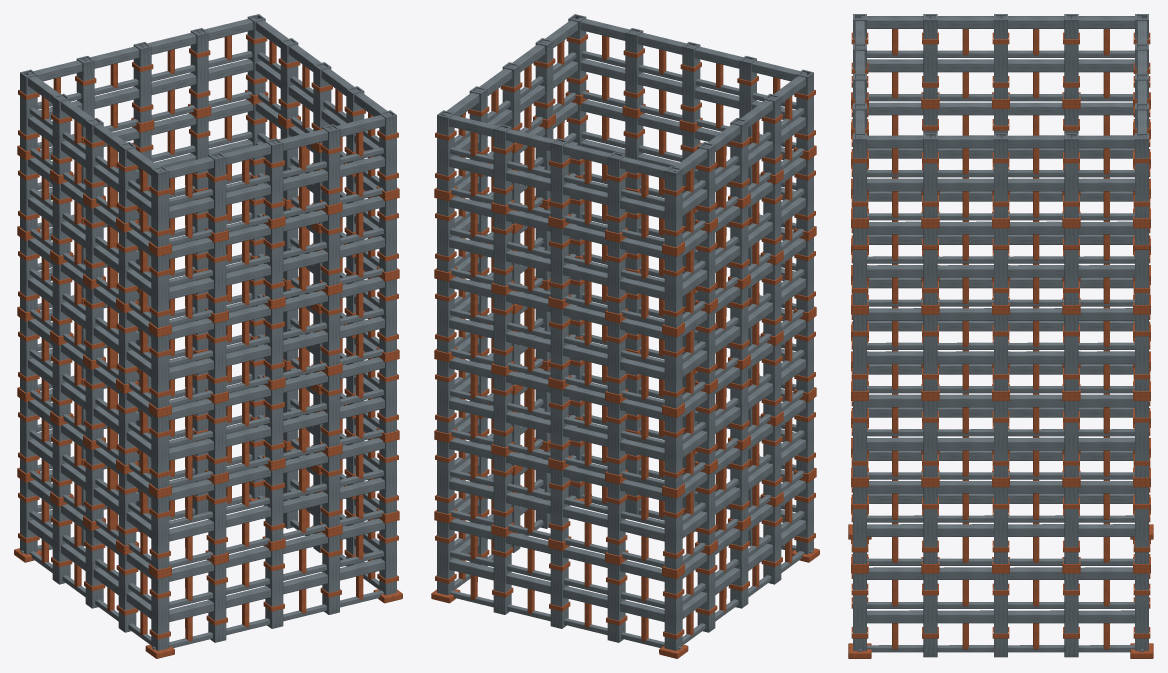
3 renders of one model, left to right at view 1: azimuth 30°, elevation 25°; view 2: azimuth 150°, elevation 25°; view 3: azimuth 270°, elevation 25°, orthographic. The views are drawn at different scales.
Visible parts, largest first — view 1: Tier 5 side 0 post 0, Tier 0 side 0 post 0, Tier 1 side 0 post 0, Tier 4 side 0 post 0, Tier 2 side 0 post 0, Tier 3 side 0 post 0, Tier 5 side 0 post 1, Tier 5 side 0 post 2, Tier 5 side 2 post 1, Tier 0 side 0 post 1, Tier 0 side 0 post 2, Tier 5 side 2 post 2 (+88 smaller); view 2: Tier 5 side 3 post 0, Tier 0 side 3 post 0, Tier 1 side 3 post 0, Tier 4 side 3 post 0, Tier 2 side 3 post 0, Tier 3 side 3 post 0, Tier 5 side 2 post 1, Tier 5 side 2 post 2, Tier 5 side 2 post 3, Tier 0 side 2 post 2, Tier 0 side 2 post 1, Tier 0 side 2 post 3 (+88 smaller); view 3: Tier 0 side 1 post 1, Tier 0 side 1 post 3, Tier 5 side 1 post 3, Tier 5 side 1 post 1, Tier 5 side 3 post 1, Tier 5 side 3 post 3, Tier 0 side 1 post 2, Tier 5 side 1 post 2, Tier 5 side 2 post 0, Tier 5 side 1 post 0, Tier 5 side 3 post 2, Tier 3 side 1 post 1 (+117 smaller).
Part boxes in pixels (x1=…): Tier 5 side 0 post 0: x1=151, y1=166, x2=169, y2=247; Tier 0 side 0 post 0: x1=151, y1=575, x2=169, y2=650; Tier 1 side 0 post 0: x1=151, y1=494, x2=169, y2=569; Tier 4 side 0 post 0: x1=151, y1=253, x2=169, y2=327; Tier 2 side 0 post 0: x1=151, y1=414, x2=169, y2=488; Tier 3 side 0 post 0: x1=151, y1=333, x2=169, y2=408; Tier 5 side 0 post 1: x1=208, y1=152, x2=226, y2=233; Tier 5 side 0 post 2: x1=265, y1=138, x2=283, y2=219; Tier 5 side 2 post 1: x1=190, y1=28, x2=208, y2=109; Tier 0 side 0 post 1: x1=208, y1=562, x2=226, y2=642; Tier 0 side 0 post 2: x1=265, y1=548, x2=283, y2=628; Tier 5 side 2 post 2: x1=133, y1=42, x2=151, y2=123; Tier 5 side 3 post 0: x1=664, y1=166, x2=682, y2=247; Tier 0 side 3 post 0: x1=664, y1=575, x2=682, y2=650; Tier 1 side 3 post 0: x1=664, y1=494, x2=682, y2=569; Tier 4 side 3 post 0: x1=664, y1=253, x2=682, y2=327; Tier 2 side 3 post 0: x1=664, y1=414, x2=682, y2=488; Tier 3 side 3 post 0: x1=664, y1=333, x2=682, y2=408; Tier 5 side 2 post 1: x1=493, y1=124, x2=511, y2=205; Tier 5 side 2 post 2: x1=550, y1=138, x2=568, y2=219; Tier 5 side 2 post 3: x1=607, y1=152, x2=625, y2=233; Tier 0 side 2 post 2: x1=550, y1=548, x2=568, y2=628; Tier 0 side 2 post 1: x1=493, y1=535, x2=511, y2=614; Tier 0 side 2 post 3: x1=607, y1=562, x2=625, y2=642; Tier 0 side 1 post 1: x1=923, y1=573, x2=937, y2=657; Tier 0 side 1 post 3: x1=1064, y1=573, x2=1078, y2=657; Tier 5 side 1 post 3: x1=1064, y1=133, x2=1078, y2=218; Tier 5 side 1 post 1: x1=923, y1=133, x2=937, y2=218; Tier 5 side 3 post 1: x1=1064, y1=14, x2=1078, y2=99; Tier 5 side 3 post 3: x1=923, y1=14, x2=937, y2=99; Tier 0 side 1 post 2: x1=994, y1=573, x2=1007, y2=657; Tier 5 side 1 post 2: x1=994, y1=133, x2=1007, y2=218; Tier 5 side 2 post 0: x1=1135, y1=133, x2=1148, y2=218; Tier 5 side 1 post 0: x1=853, y1=133, x2=866, y2=218; Tier 5 side 3 post 2: x1=994, y1=14, x2=1007, y2=99; Tier 3 side 1 post 1: x1=923, y1=314, x2=937, y2=391.
Bounding box in the file's own units: 1.95 × 3.65 × 1.95.
Materials: 2 (2 with a texture image).
